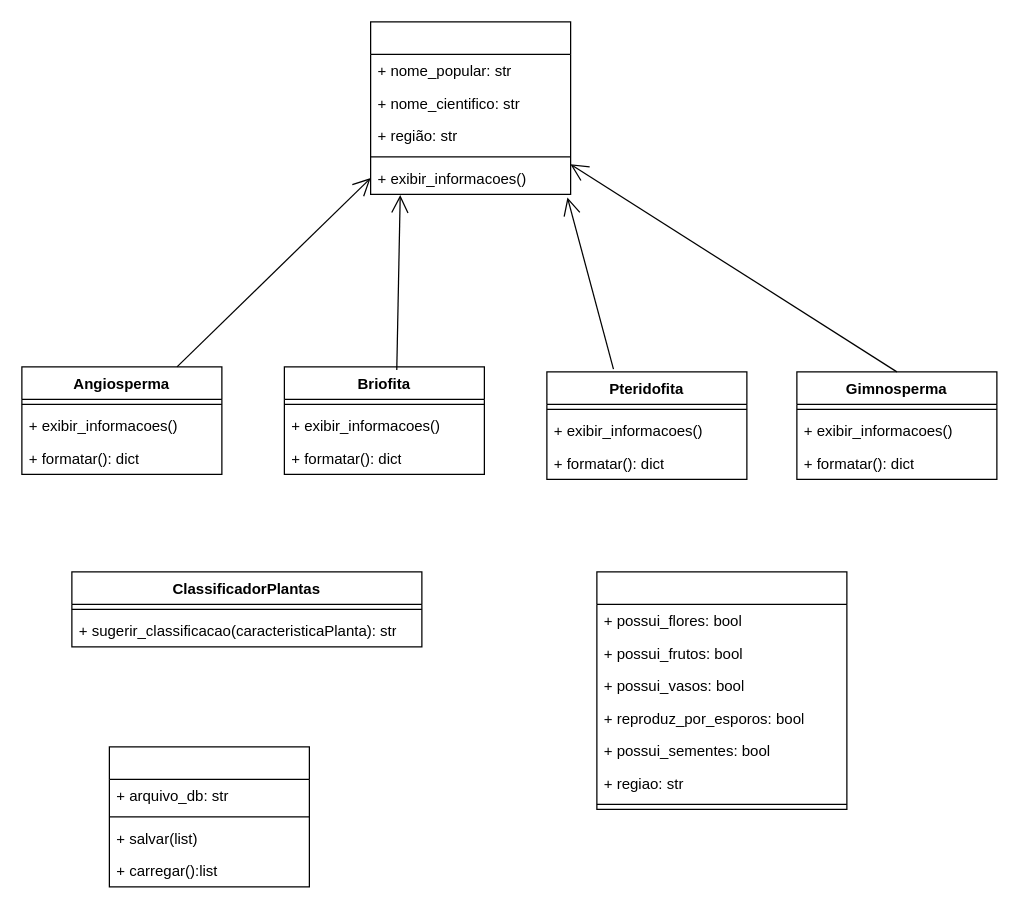
Image size: 1019x913. Some labels were removed from this diagram. The box of each missing label's shape, as (x1, y1, x2, y2) in pixels:
CaracteristicasPlantas: (596, 571, 847, 809)
CatalogoService: (108, 746, 309, 887)
Planta: (369, 21, 571, 194)
